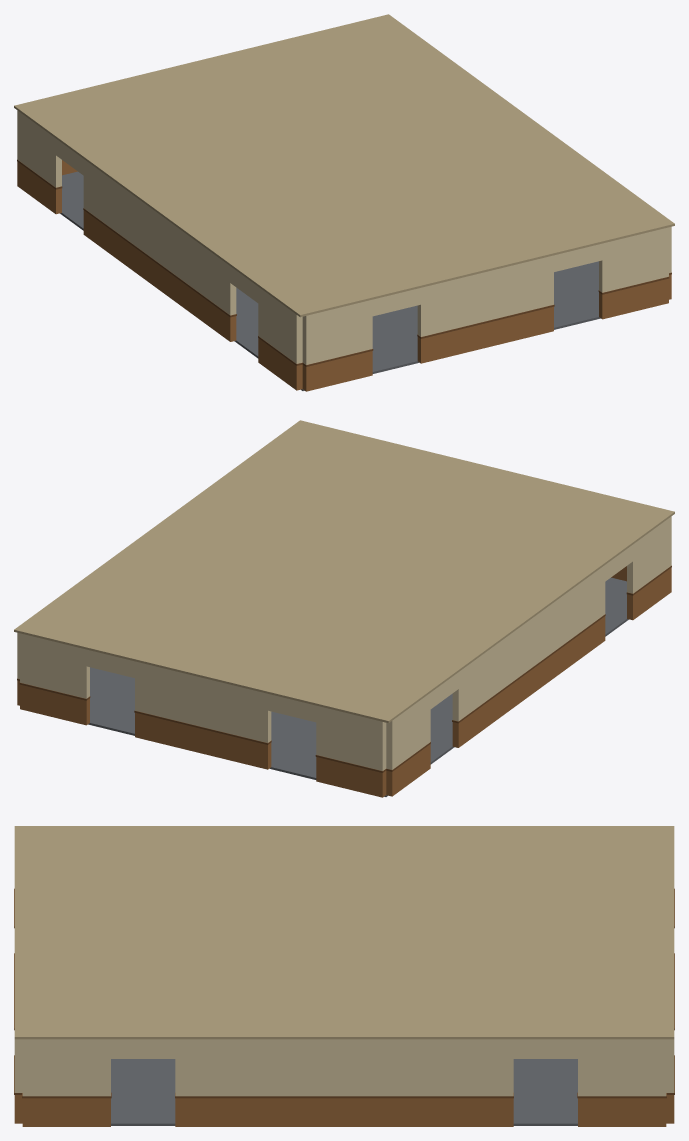
Rendered from room_robotics_assembly_floor.glb.
3 renders of one model, top to bottom at view 1: azimuth 30°, elevation 25°; view 2: azimuth 150°, elevation 25°; view 3: azimuth 270°, elevation 25°, orthographic. The views are drawn at different scales.
Parts seen in each view (by area): view 1: room_robotics_assembly_floor; view 2: room_robotics_assembly_floor; view 3: room_robotics_assembly_floor.
Boxes of the visible parts, box(x1,y1,x2,y2) form: room_robotics_assembly_floor: box(14, 14, 674, 391); room_robotics_assembly_floor: box(14, 420, 674, 797); room_robotics_assembly_floor: box(14, 826, 674, 1126).
Bounding box in the file's own units: 18.62 × 3.8 × 24.64.
1 material, 1 textured.
